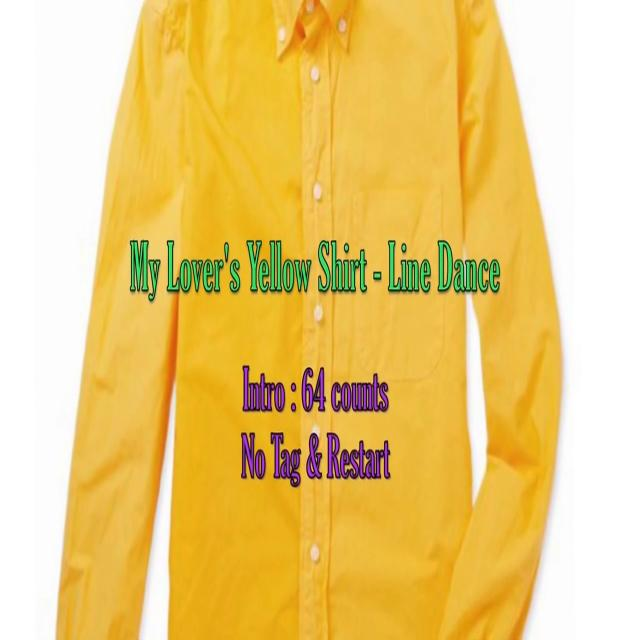Shirt: (56, 0, 564, 640)
